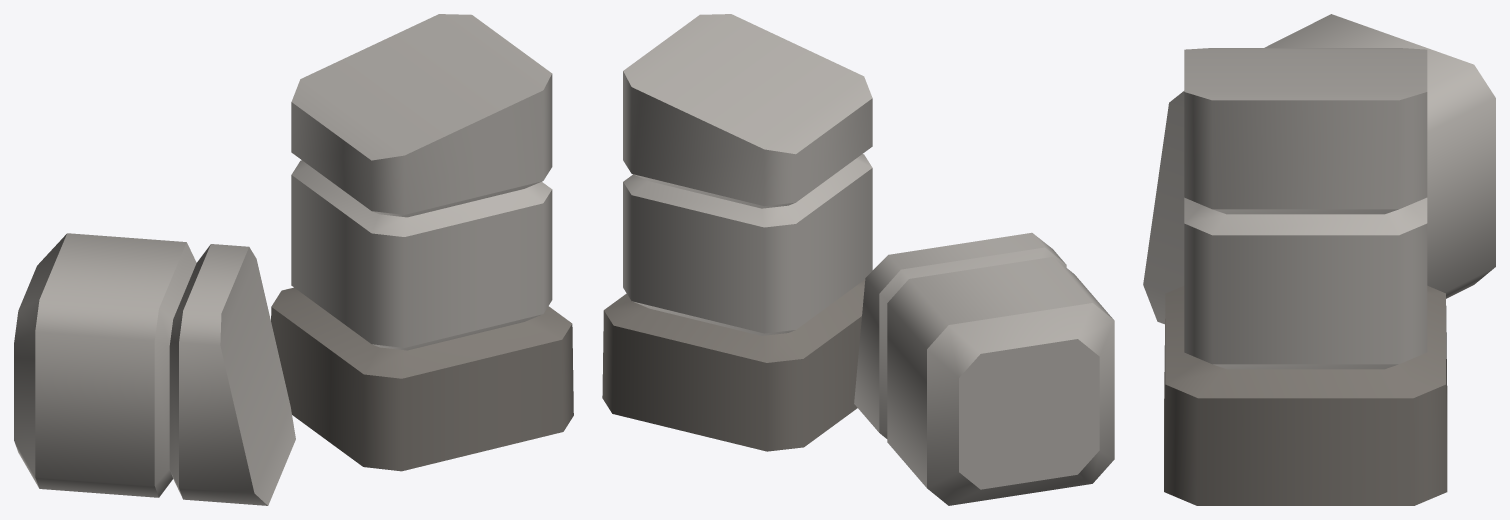
File: Pillar 02.FBX
The picture shows the model from 3 angles, left to right: view 1: azimuth 30°, elevation 25°; view 2: azimuth 150°, elevation 25°; view 3: azimuth 270°, elevation 25°; orthographic projection. The views are drawn at different scales.
Parts seen in each view (by area): view 1: Pillar 02; view 2: Pillar 02; view 3: Pillar 02.
Boxes of the visible parts, x1,y1,x2,y2 form: Pillar 02: (14, 14, 573, 505); Pillar 02: (602, 14, 1114, 505); Pillar 02: (1143, 14, 1495, 505).
Size of the model in its own units: 214 by 141 by 114.
Materials: 1 (1 with a texture image).
